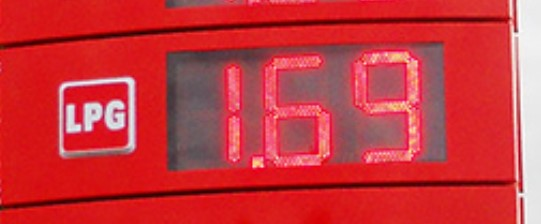digits: (254, 42, 348, 174), (350, 40, 424, 166), (180, 44, 244, 174)
